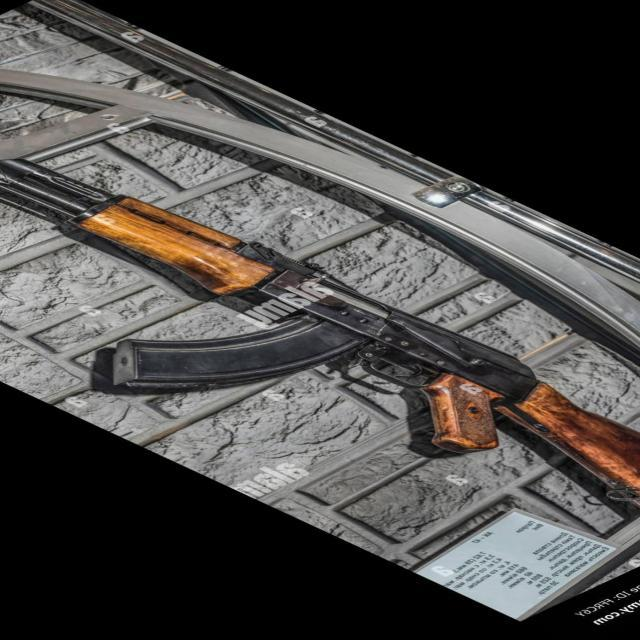weapon: (0, 158, 640, 503)
